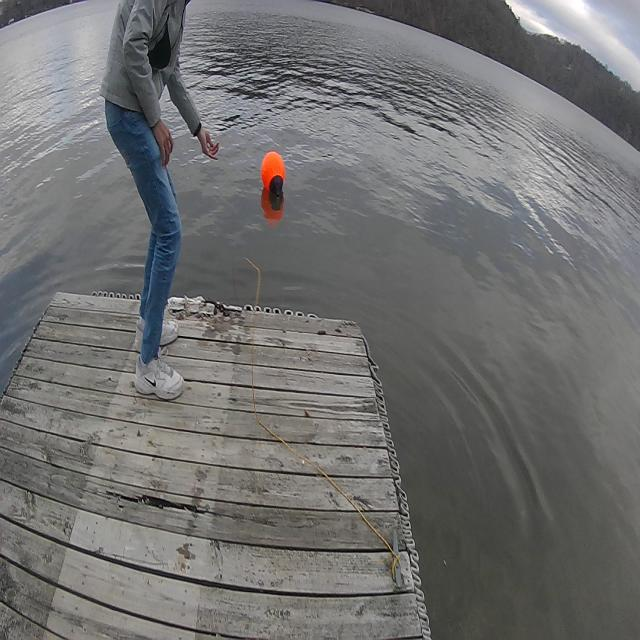Buoy: (258, 142, 291, 211)
